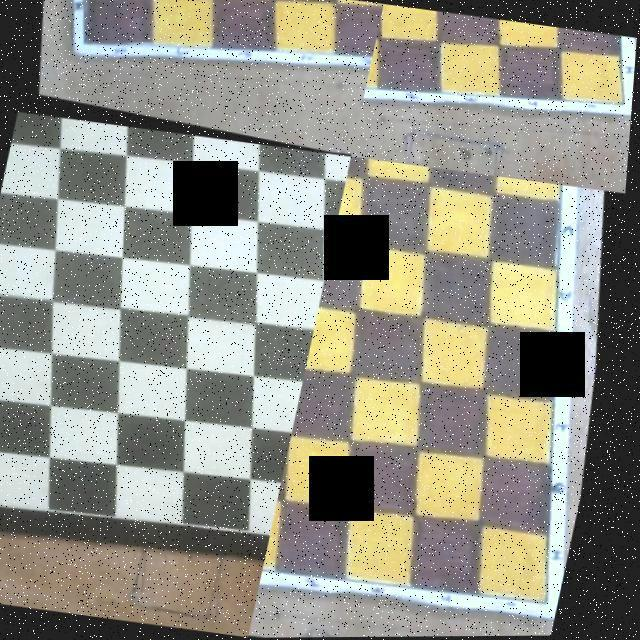chess-table-corners: (546, 594, 566, 610), (622, 102, 632, 110), (274, 529, 280, 535), (83, 47, 90, 52), (373, 40, 377, 46)
